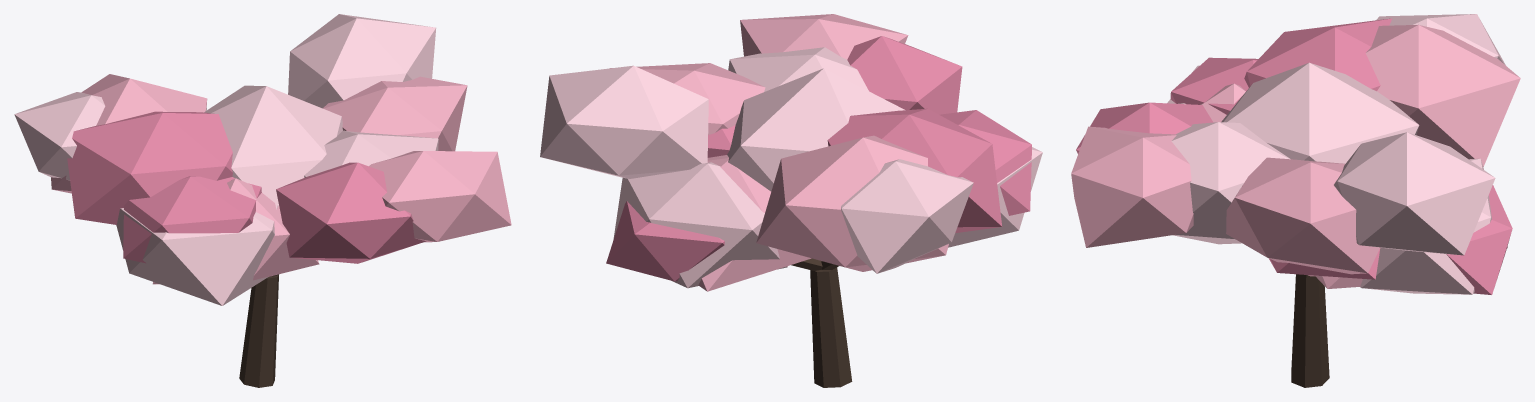
The model's file is korsbar_2.glb.
3 views of the same model, side by side, from view 1: azimuth 30°, elevation 25°; view 2: azimuth 150°, elevation 25°; view 3: azimuth 270°, elevation 25° (orthographic). The views are drawn at different scales.
Parts seen in each view (by area): view 1: korsbar_2; view 2: korsbar_2; view 3: korsbar_2.
Boxes of the visible parts, x1,y1,x2,y2 form: korsbar_2: (14,14,511,387); korsbar_2: (540,14,1042,387); korsbar_2: (1071,14,1520,387).
Bounding box in the file's own units: 8.63 × 6.2 × 7.79.
